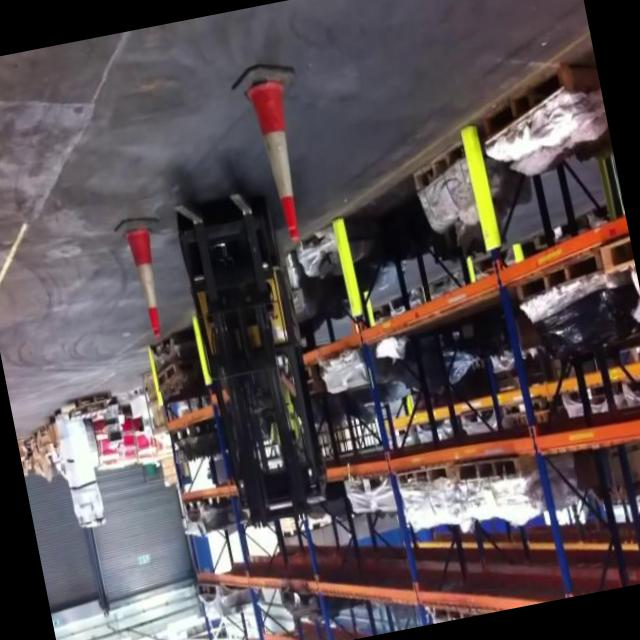forklift: (165, 166, 338, 535)
